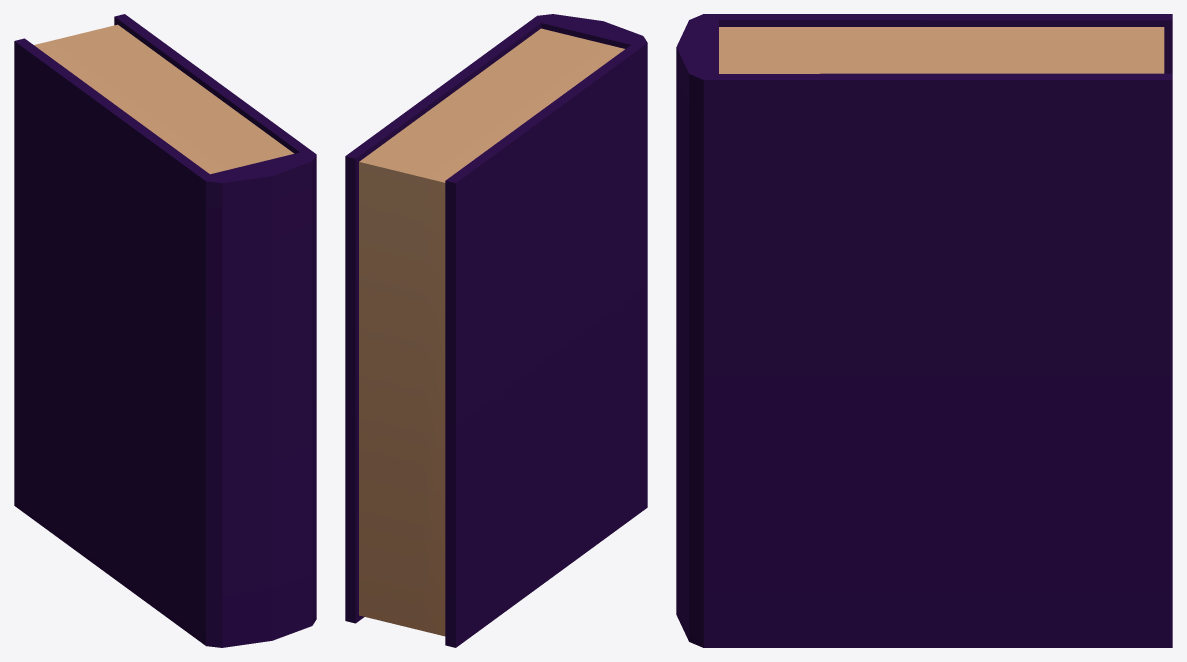
Rendered from Book_blue_A.fbx.
The picture shows the model from 3 angles, left to right: view 1: azimuth 30°, elevation 25°; view 2: azimuth 150°, elevation 25°; view 3: azimuth 270°, elevation 25°; orthographic projection. The views are drawn at different scales.
Parts seen in each view (by area): view 1: Book_blue_A; view 2: Book_blue_A; view 3: Book_blue_A.
Part boxes in pixels (left/top/right/bottom): Book_blue_A: left=14, top=14, right=316, bottom=647; Book_blue_A: left=345, top=14, right=647, bottom=647; Book_blue_A: left=676, top=14, right=1172, bottom=647.
Bounding box in the file's own units: 6.32 × 25.38 × 20.08.
